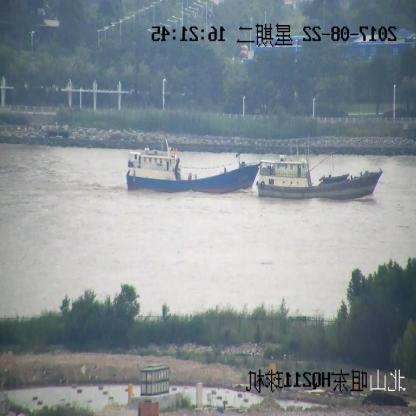Fishing Boat: (256, 139, 382, 199), (127, 143, 259, 194)
